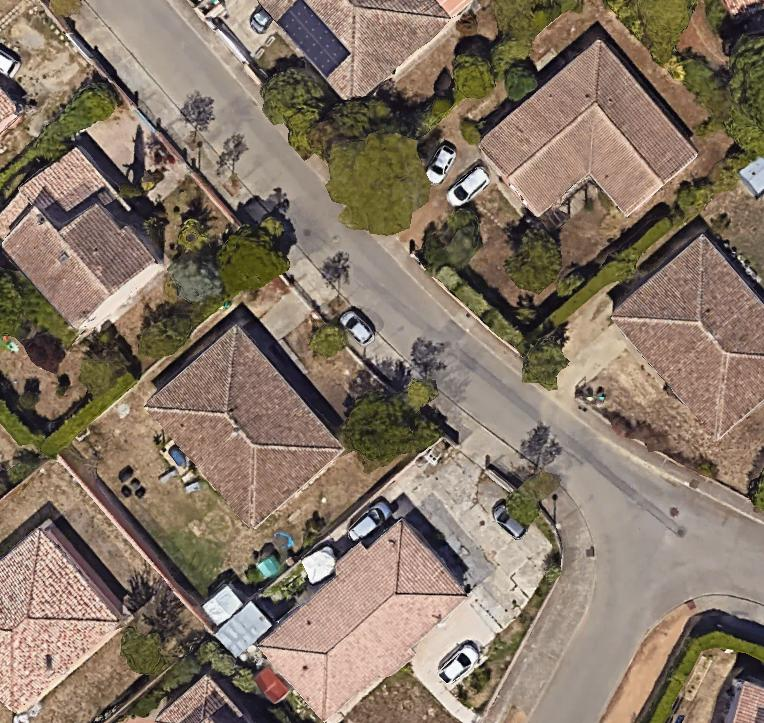maison: (472, 31, 705, 262), (252, 509, 476, 723), (140, 318, 348, 530), (0, 144, 172, 345), (606, 231, 764, 441), (0, 520, 130, 719), (260, 0, 455, 99), (156, 676, 243, 722), (727, 681, 763, 722)
